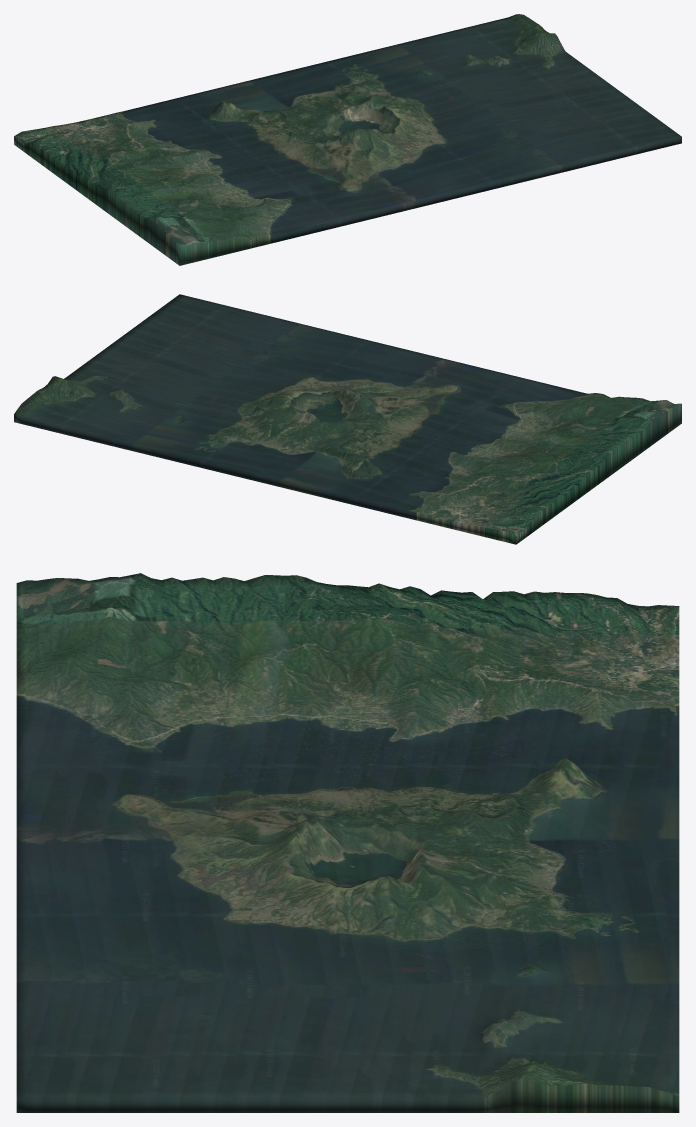
File: taal_volcano.glb
3 views of the same model, one above another, from view 1: azimuth 30°, elevation 25°; view 2: azimuth 150°, elevation 25°; view 3: azimuth 270°, elevation 25° (orthographic). The views are drawn at different scales.
Visible parts, largest first — view 1: EXPORT_GOOGLE_SAT_WM; view 2: EXPORT_GOOGLE_SAT_WM; view 3: EXPORT_GOOGLE_SAT_WM.
Part boxes in pixels (left/top/right/bottom): EXPORT_GOOGLE_SAT_WM: left=14, top=14, right=681, bottom=265; EXPORT_GOOGLE_SAT_WM: left=14, top=294, right=681, bottom=544; EXPORT_GOOGLE_SAT_WM: left=16, top=573, right=679, bottom=1112.
Size of the model in its own units: 17122 by 839 by 9784.
1 material, 1 textured.
